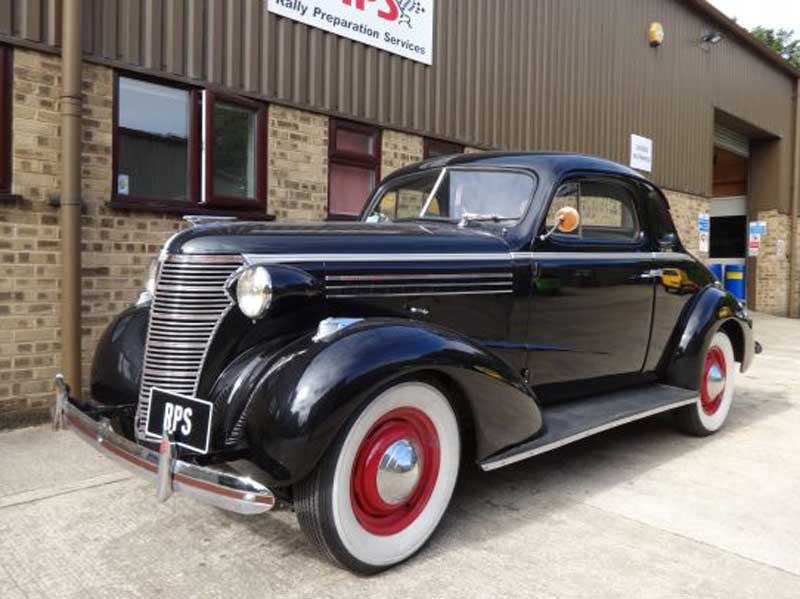other: (71, 143, 745, 576)
